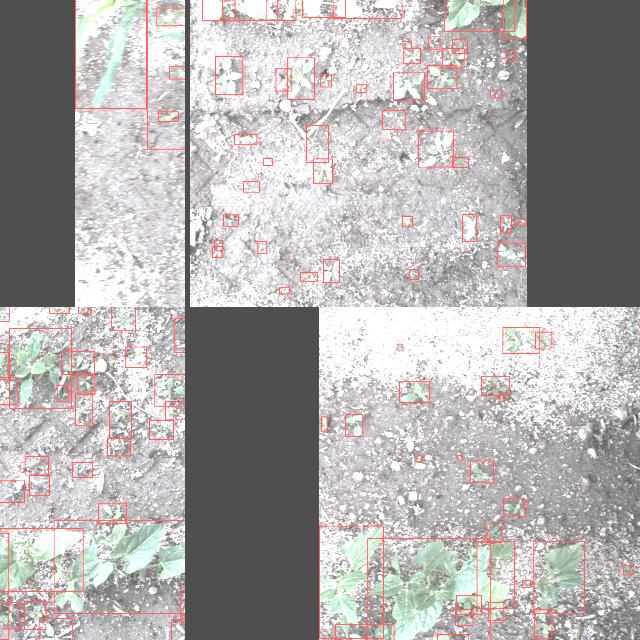crop: (366, 537, 489, 640), (52, 519, 185, 612), (74, 0, 145, 107), (318, 525, 382, 637), (0, 527, 83, 590), (534, 541, 584, 613), (476, 540, 514, 608), (444, 0, 514, 31), (201, 0, 277, 20), (332, 0, 401, 18), (502, 0, 526, 37), (301, 0, 344, 16), (265, 0, 294, 20)
weed: (8, 328, 70, 408), (417, 130, 453, 166), (286, 57, 314, 99), (214, 56, 242, 94), (334, 623, 393, 640), (154, 374, 185, 406), (502, 327, 538, 353), (392, 72, 423, 100), (109, 400, 131, 438), (306, 125, 328, 162), (38, 617, 71, 640), (61, 351, 94, 374), (427, 64, 457, 88), (497, 242, 525, 266), (399, 381, 429, 402), (23, 601, 45, 629), (75, 392, 92, 426), (98, 502, 126, 522), (481, 375, 509, 395), (534, 608, 552, 638), (111, 307, 135, 329), (469, 460, 493, 482), (0, 601, 19, 628), (0, 480, 23, 502), (156, 7, 184, 25), (456, 594, 480, 614), (313, 158, 332, 182), (149, 419, 173, 438), (442, 47, 464, 67), (24, 456, 48, 474), (0, 376, 16, 403), (106, 437, 130, 455), (125, 346, 146, 366), (29, 475, 49, 495), (164, 400, 185, 419), (382, 110, 404, 128), (344, 413, 362, 435), (323, 258, 339, 282), (462, 213, 476, 240), (174, 317, 185, 351), (76, 373, 94, 393), (504, 497, 524, 515), (275, 68, 291, 90), (486, 522, 502, 542), (170, 619, 185, 640), (454, 609, 472, 625), (488, 602, 504, 620), (534, 332, 552, 348), (72, 462, 92, 476), (404, 47, 421, 63), (234, 134, 256, 144), (179, 586, 185, 621), (168, 66, 185, 78), (222, 1, 234, 18), (157, 111, 177, 121), (452, 39, 466, 53), (222, 214, 238, 226), (56, 385, 68, 401), (0, 351, 7, 378), (501, 215, 512, 232), (436, 634, 467, 640), (452, 157, 468, 167), (243, 181, 259, 191), (319, 74, 331, 86), (428, 36, 440, 48), (256, 240, 266, 253), (300, 272, 316, 280), (402, 215, 412, 225), (211, 246, 221, 256), (505, 50, 515, 60), (49, 307, 69, 312), (623, 564, 633, 574), (490, 89, 502, 97), (409, 269, 418, 279), (320, 416, 326, 430), (279, 286, 289, 294), (213, 240, 221, 250), (355, 84, 365, 92), (78, 307, 90, 313), (402, 41, 412, 48), (262, 158, 272, 165), (522, 579, 530, 587), (514, 220, 526, 224), (457, 454, 461, 460), (416, 455, 420, 461), (500, 394, 502, 400)
